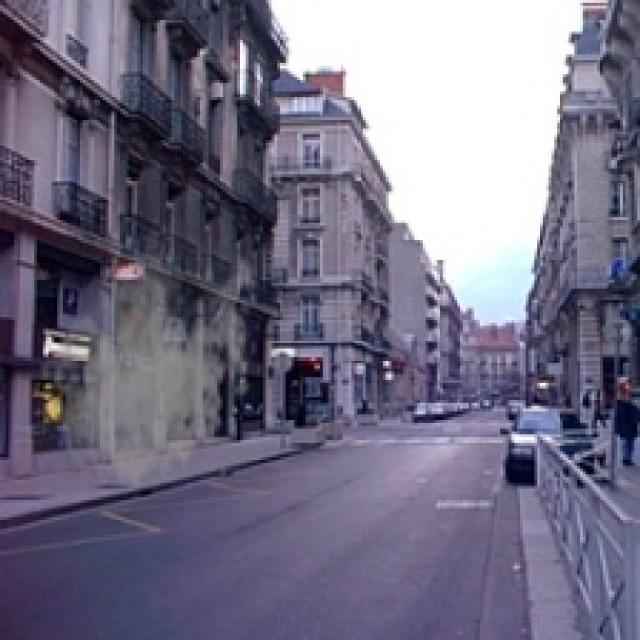Smoke: (37, 217, 263, 497)
